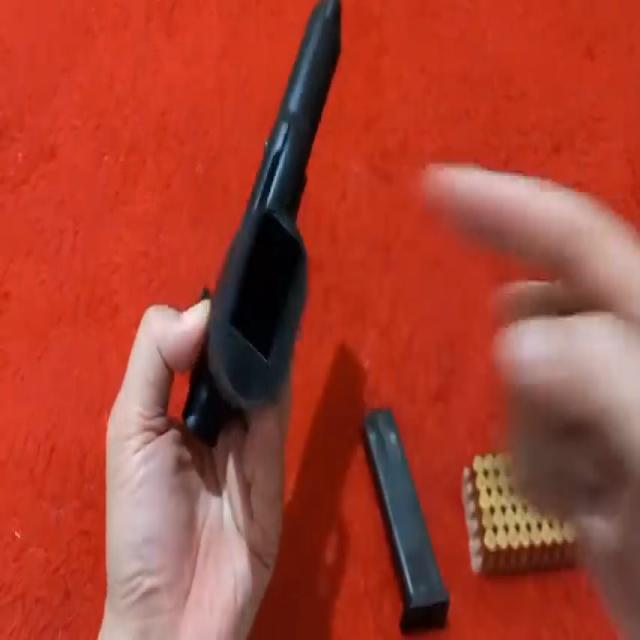handgun: (182, 0, 352, 456)
